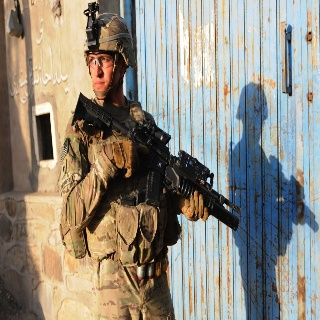rifle: (71, 91, 243, 234)
